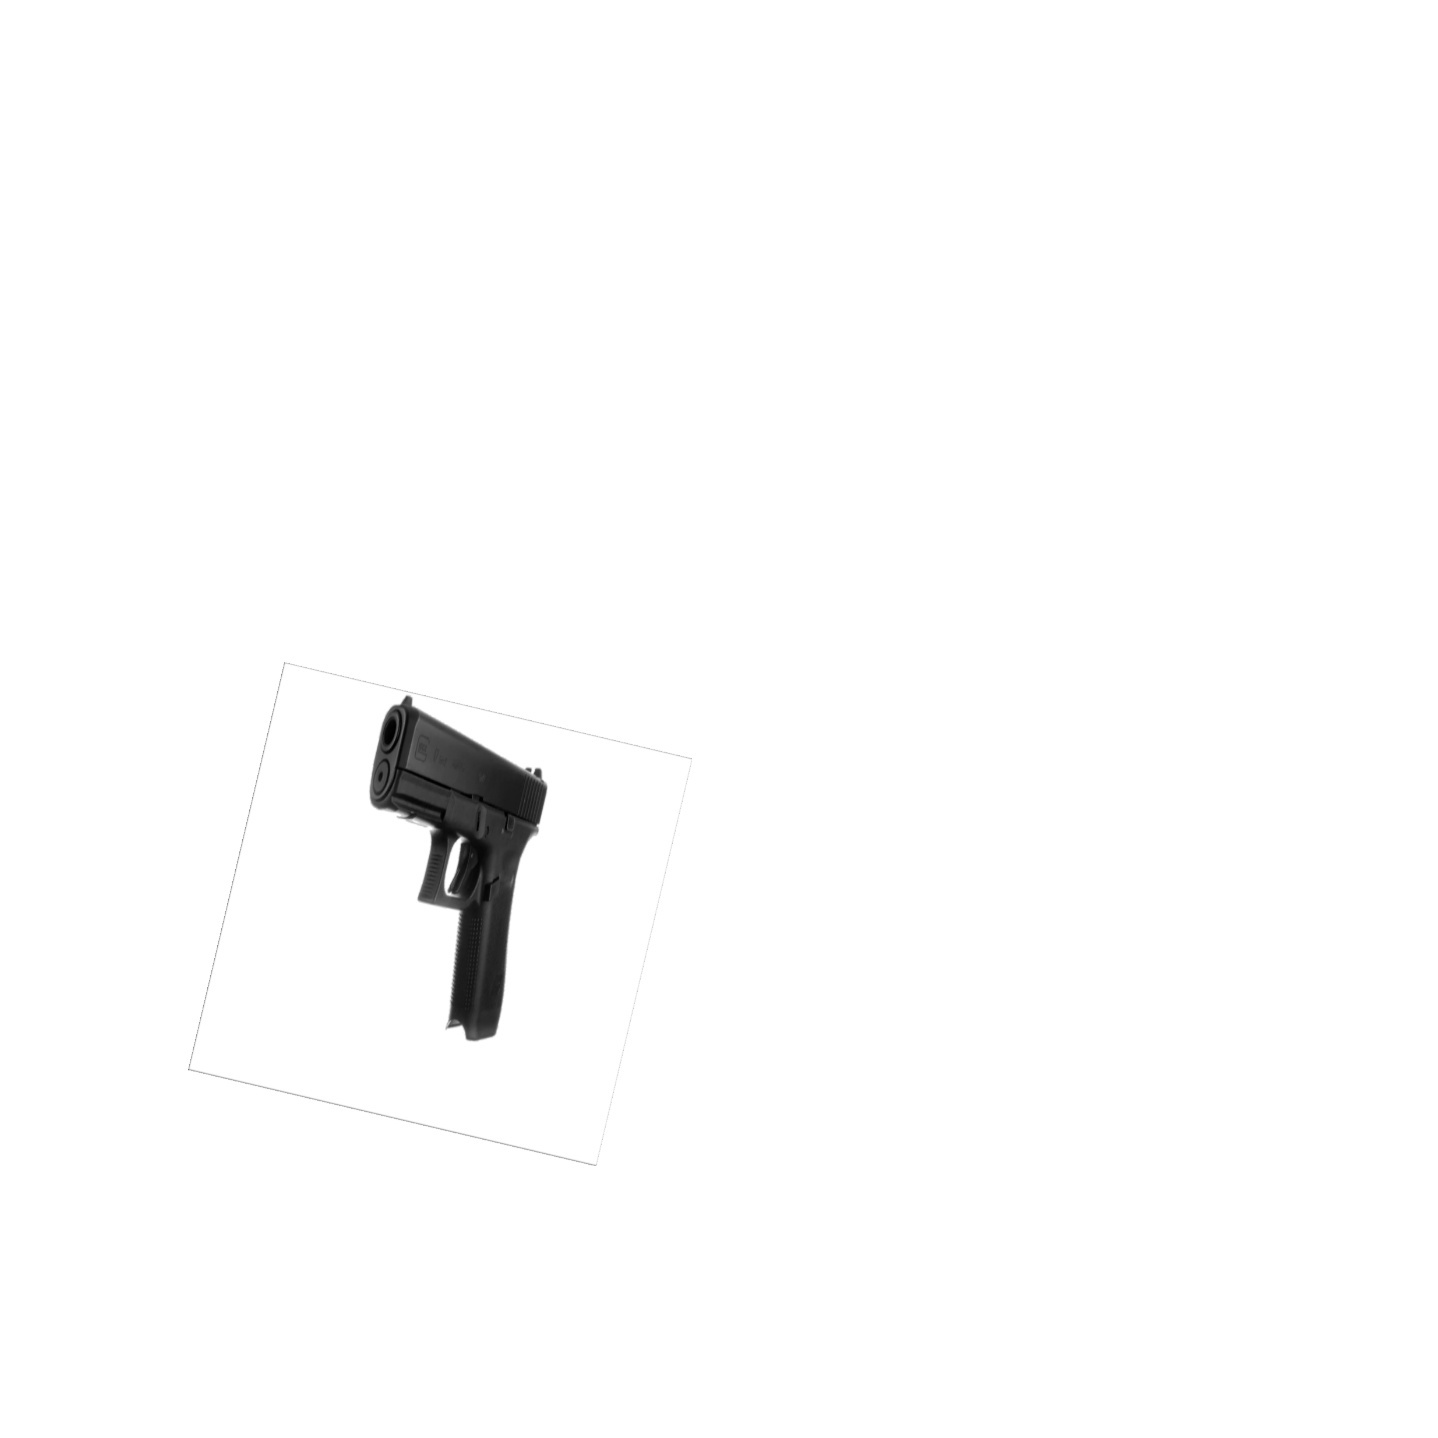gun: (357, 683, 552, 1053)
